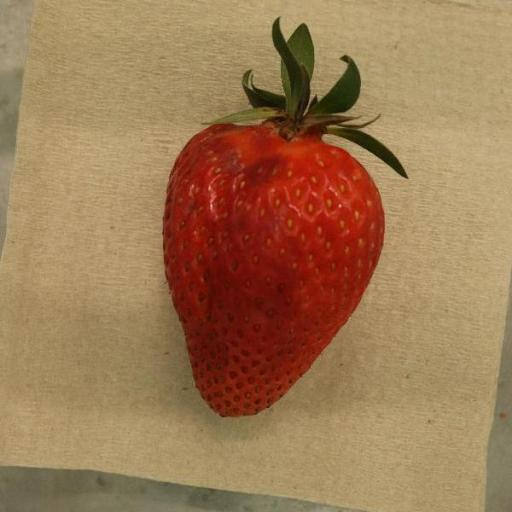Strawberry: (163, 20, 407, 417)
